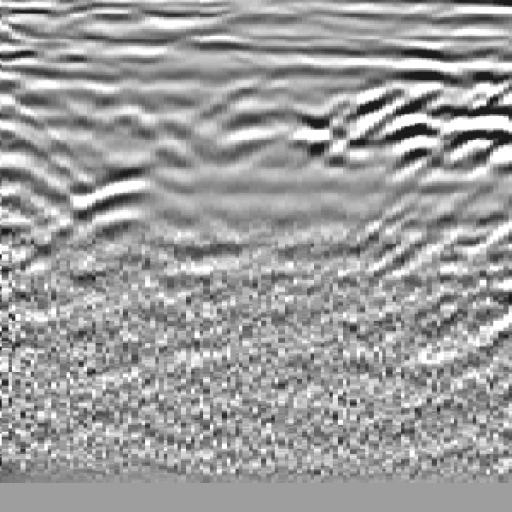metalic: (63, 41, 203, 274)
nonmetalic: (357, 43, 512, 282)
